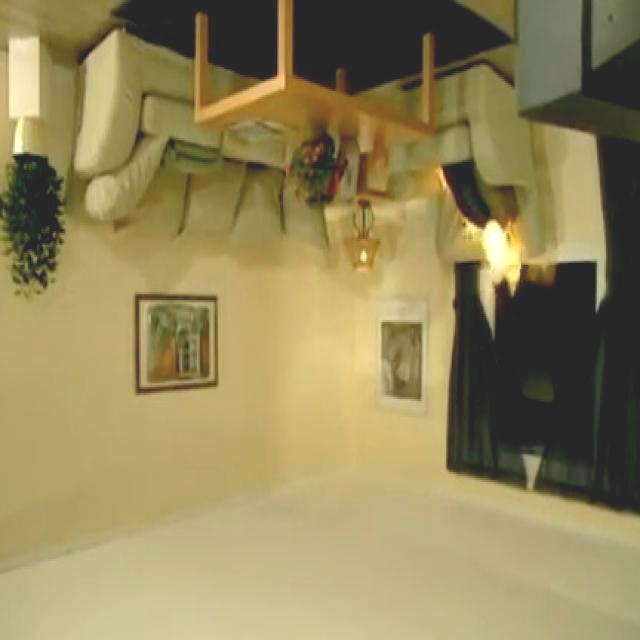fire: (423, 129, 543, 308)
